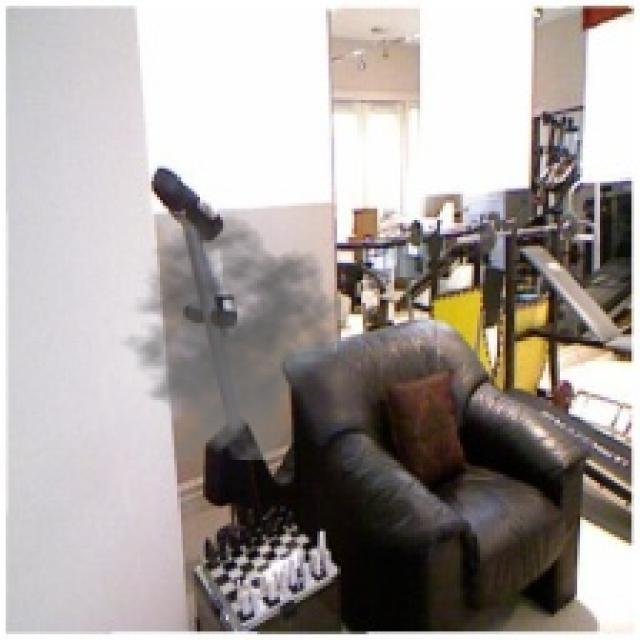smoke: (108, 214, 346, 460)
